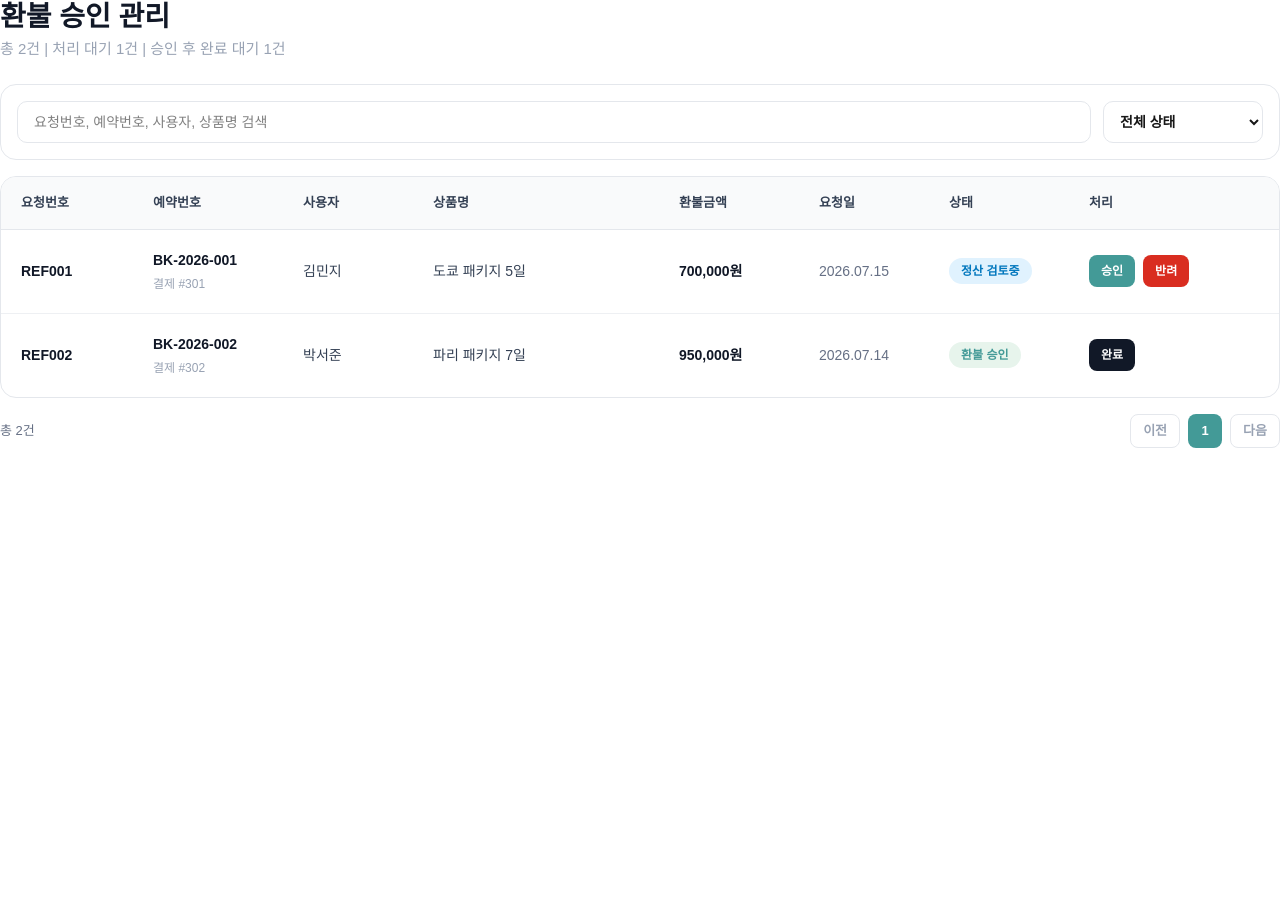
MoneyRefundManageClient 컴포넌트 테스트 › 승인 처리 확인 후 완료 모달을 보여준다
Click the button "승인".
click(1112, 271)  # box [1089, 255, 1135, 287]
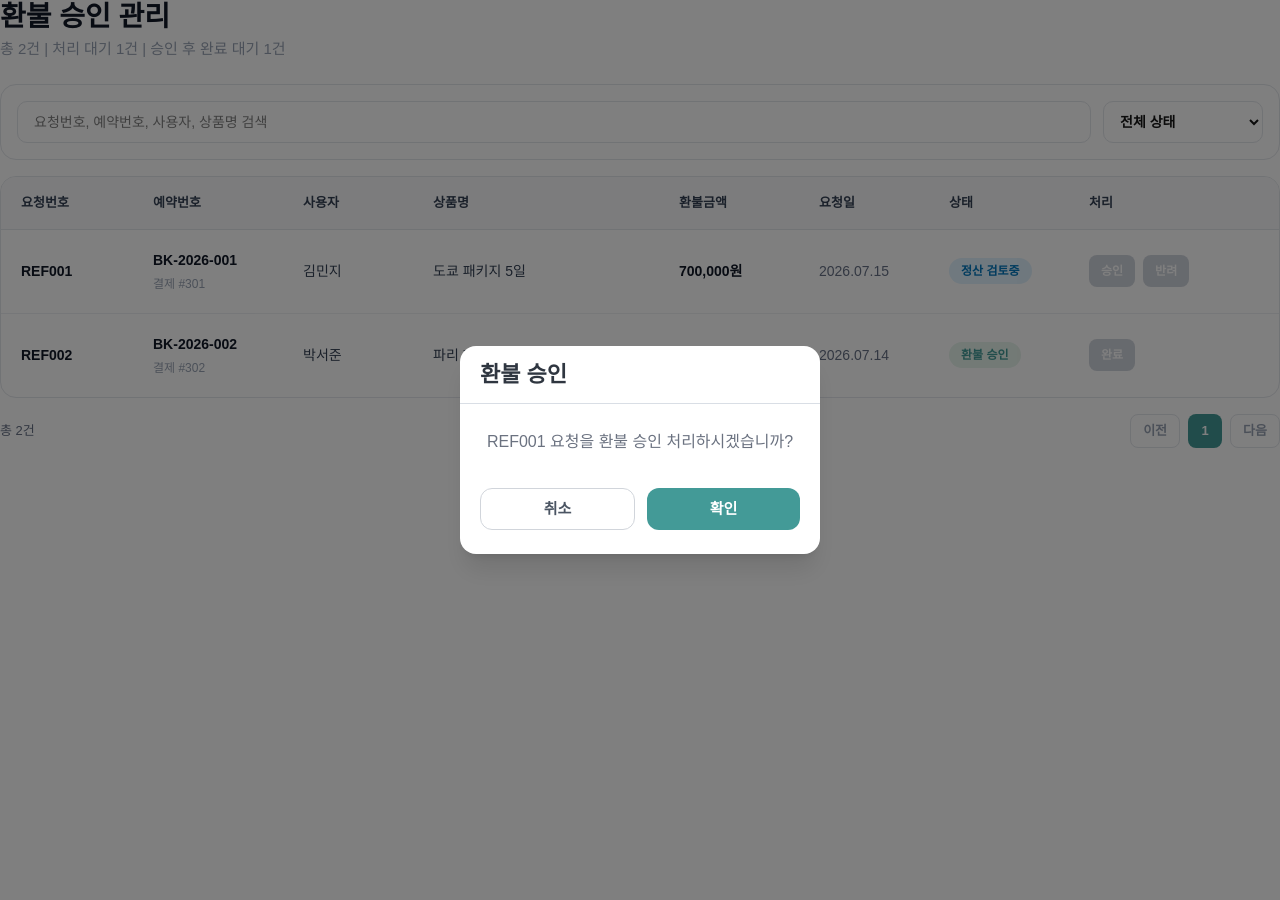
Now the text "REF001 요청을 환불 승인 처리하시겠습니까?" is shown, box [487, 428, 793, 456]
Click the button "확인".
click(724, 509)  # box [647, 488, 800, 530]
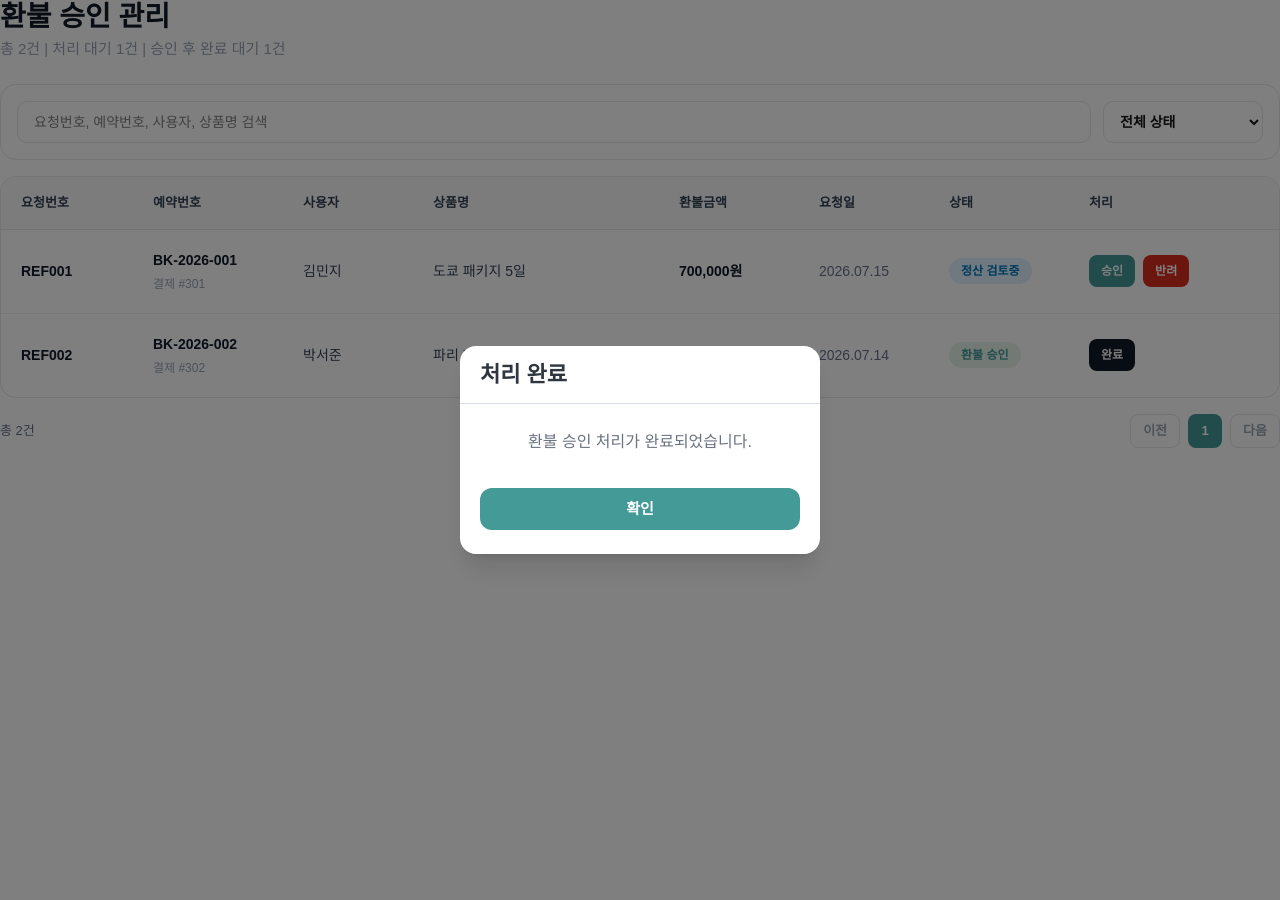
Now the text "환불 승인 처리가 완료되었습니다." is shown, box [528, 428, 752, 456]
